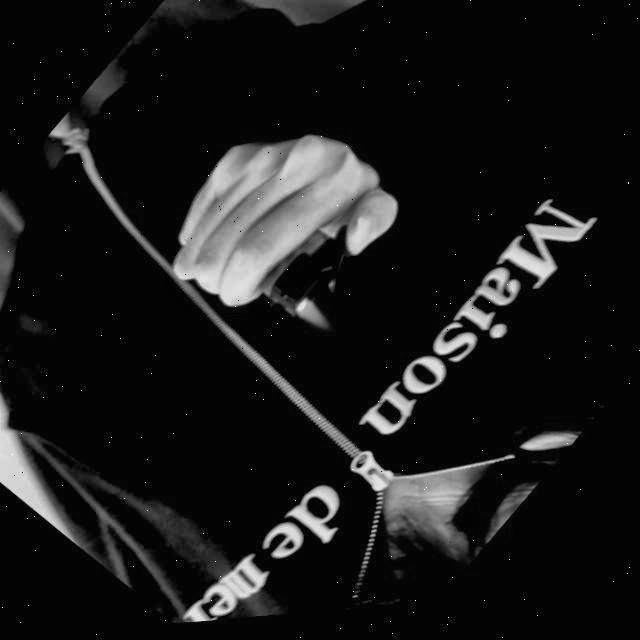Fire: (293, 295, 348, 350)
